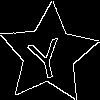Y: (24, 29, 67, 81)
